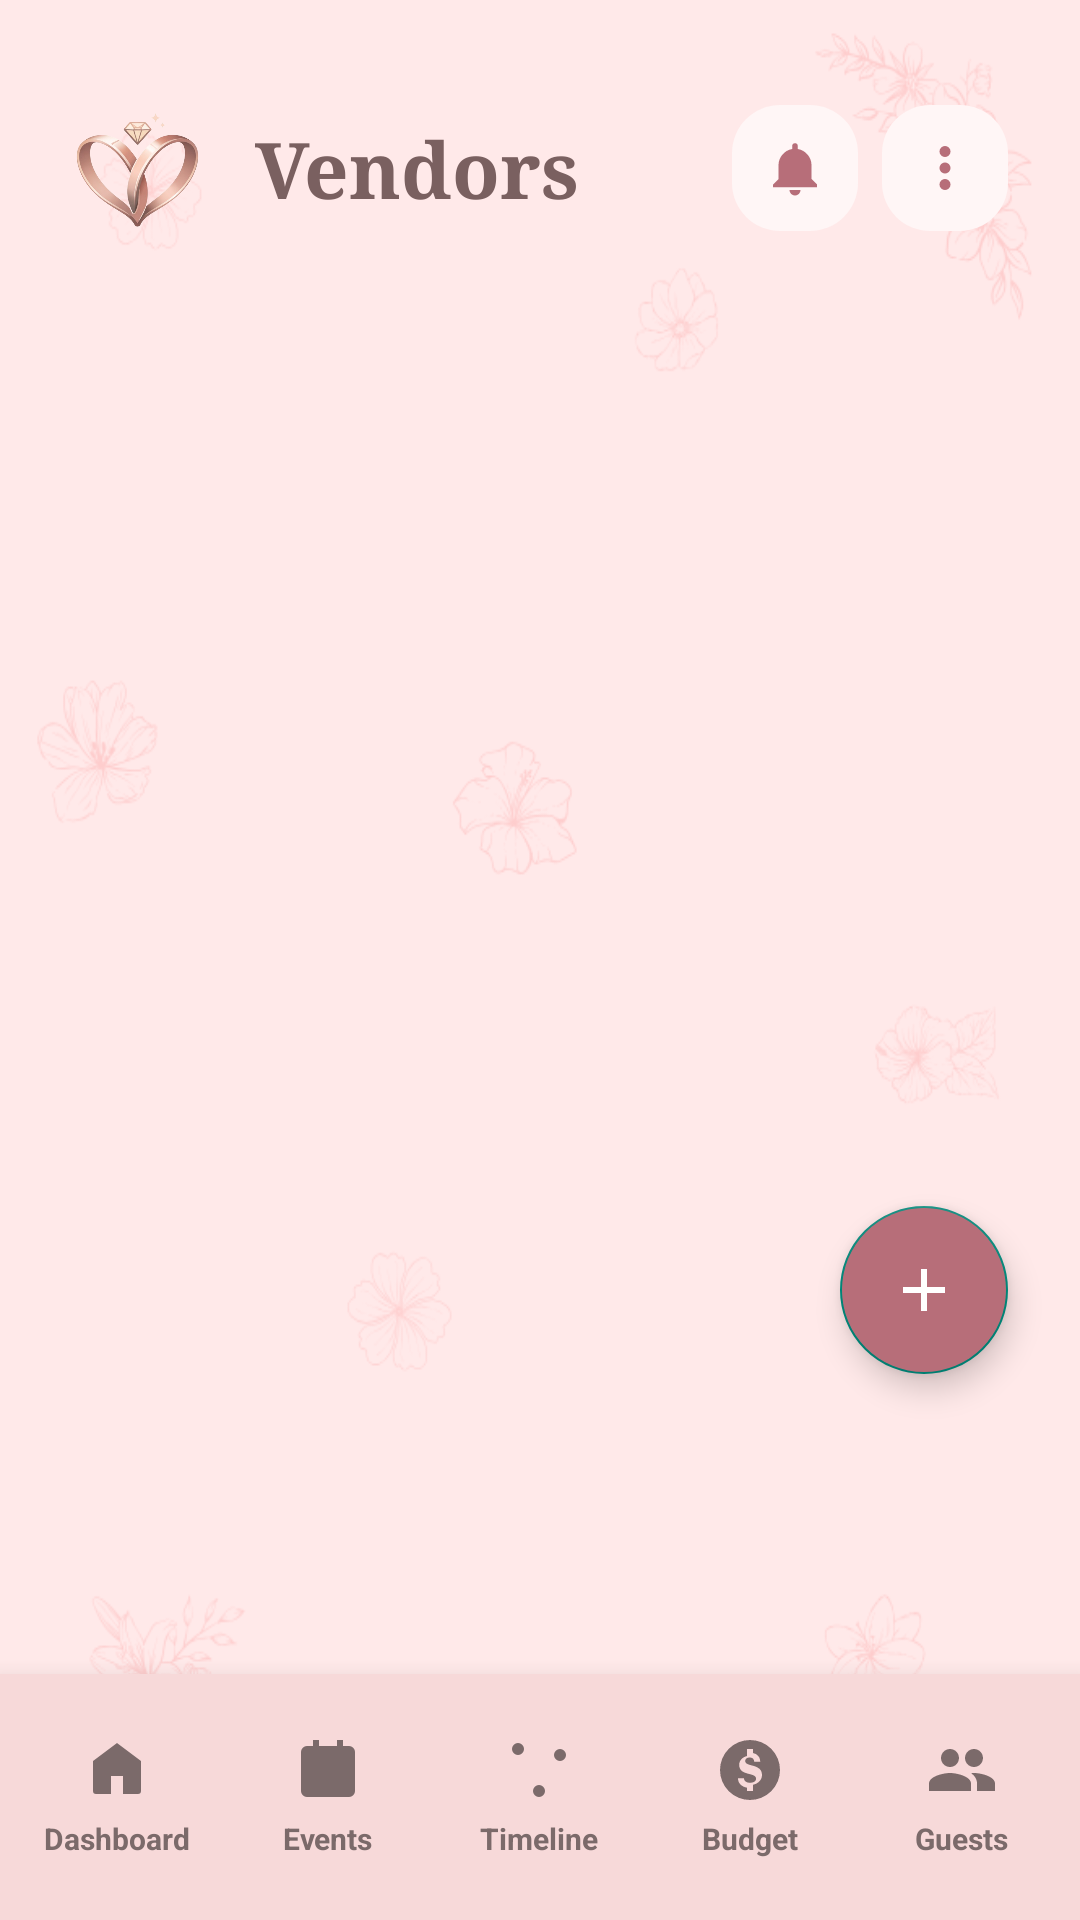

Where to tap for icons on this 1080w x 1920h app screen, as [x,y]:
Add Vendor: [924,1290]
Menu: [945,168]
Notifications: [795,169]
